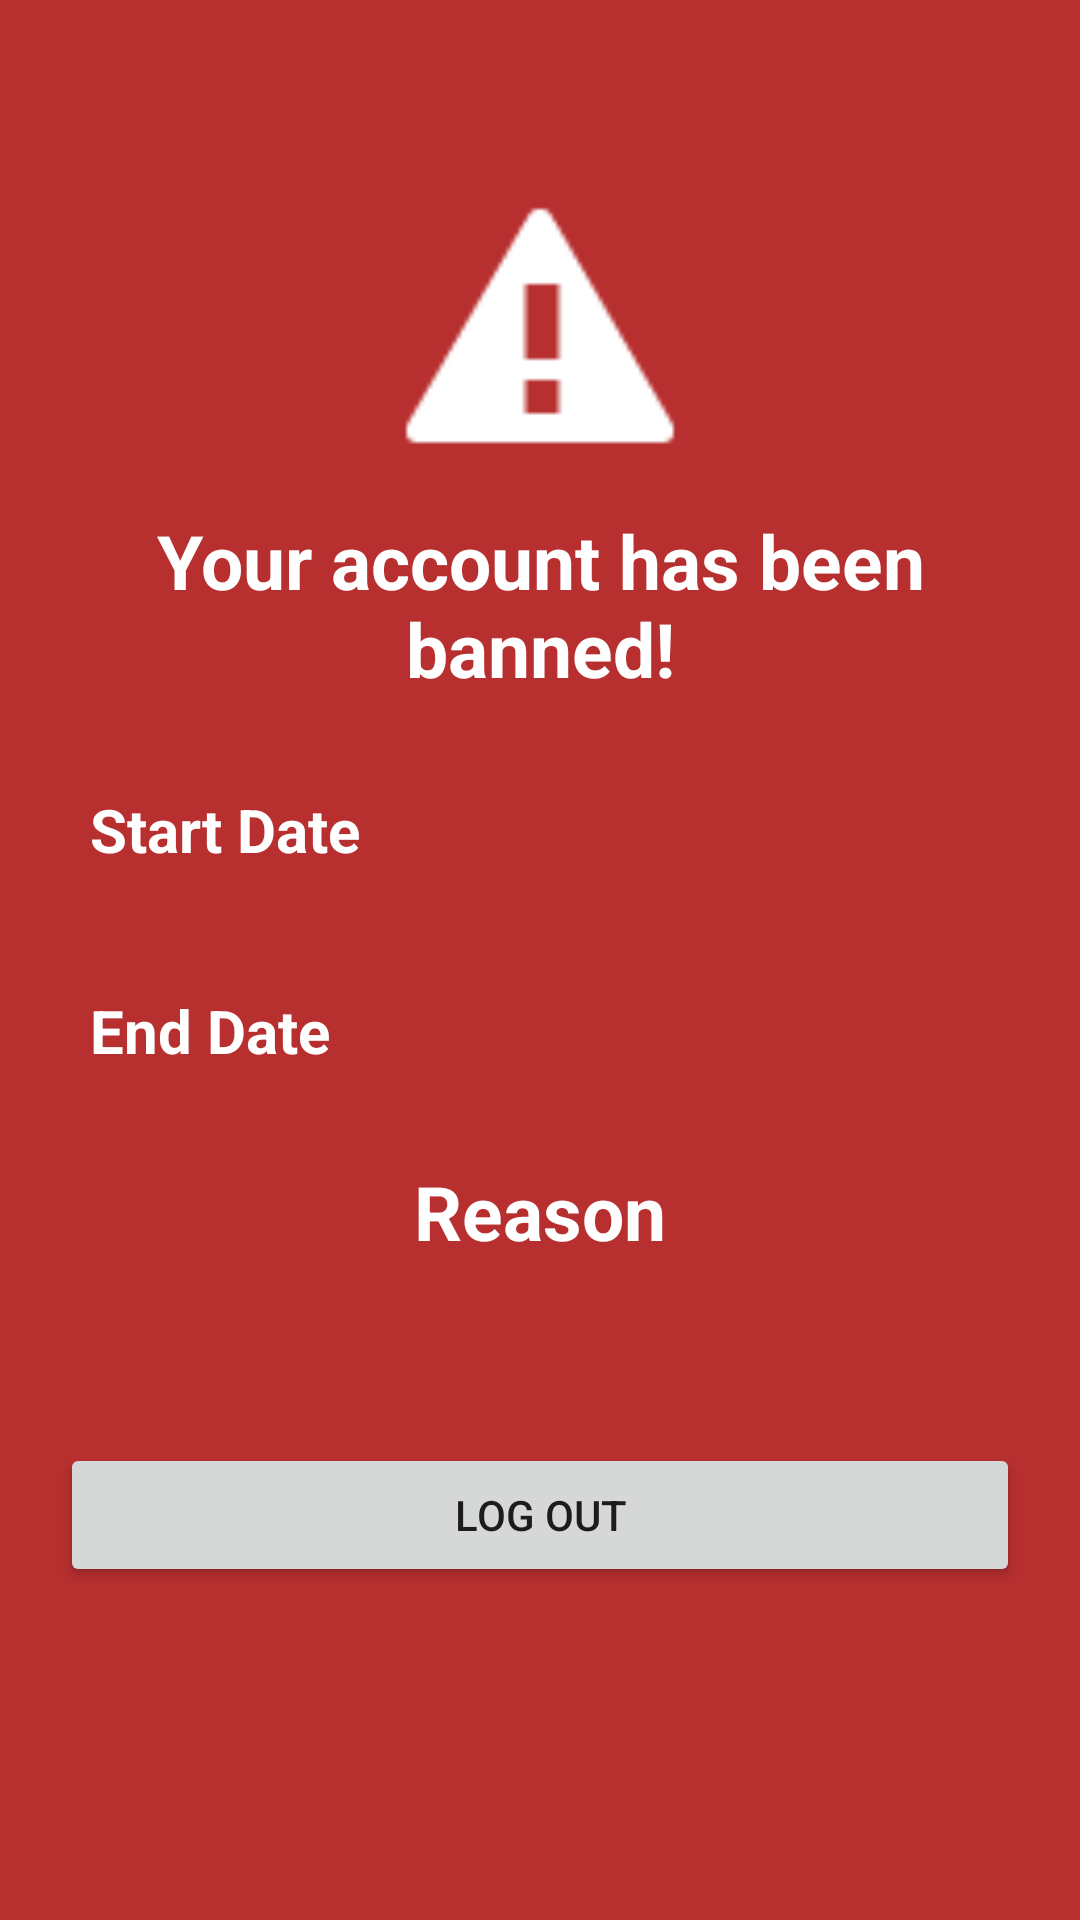

Screen size 1080w x 1920h. Icon name, then its box in pixels as bbox=[x1, y1, x2, y2]:
error: bbox=[405, 208, 675, 444]
